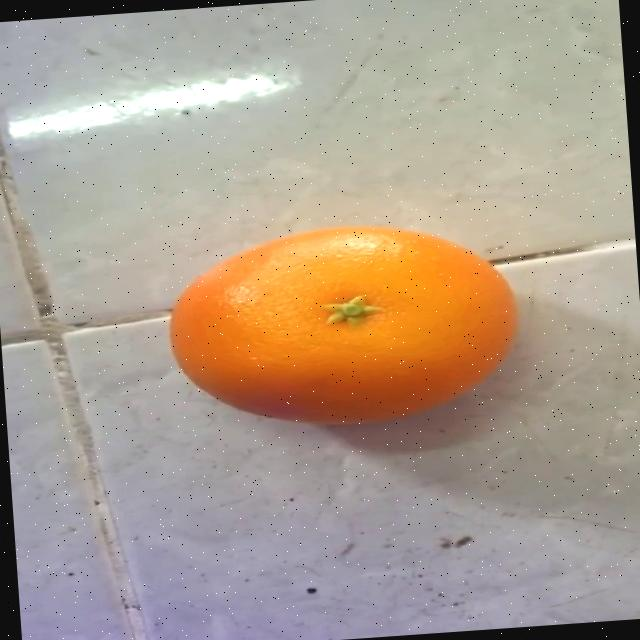orange: (135, 200, 548, 449)
